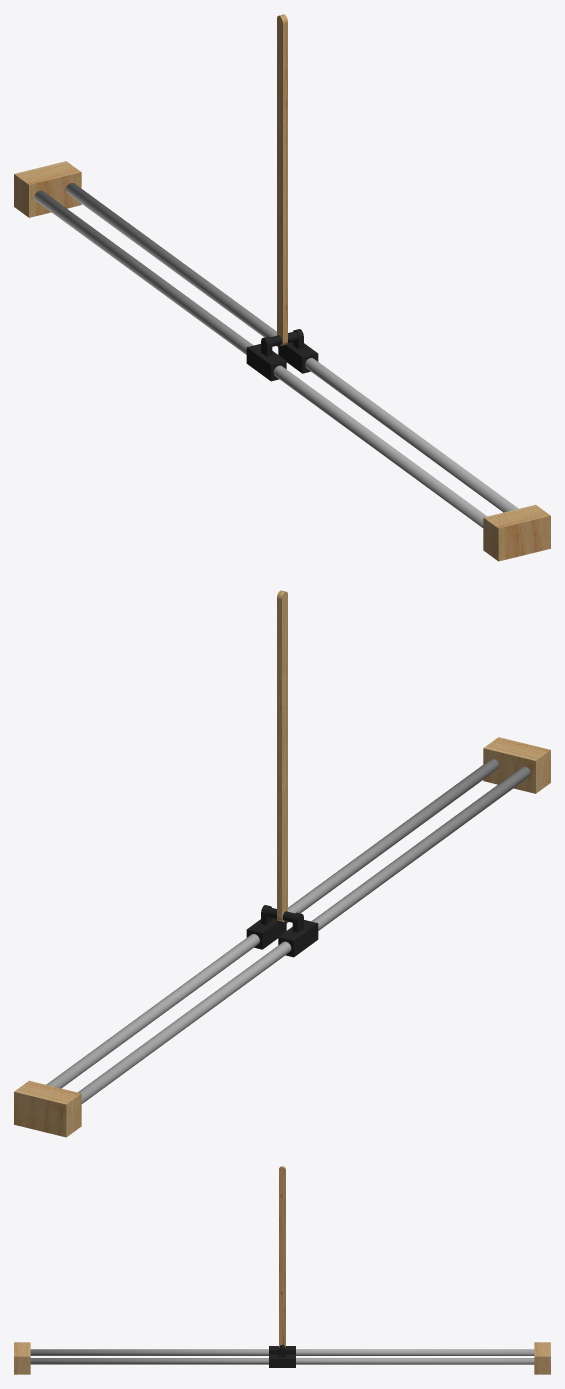
The model's file is pendulum_v5.glb.
3 renders of one model, top to bottom at view 1: azimuth 30°, elevation 25°; view 2: azimuth 150°, elevation 25°; view 3: azimuth 270°, elevation 25°, orthographic. The views are drawn at different scales.
Parts seen in each view (by area): view 1: track, rod, tracksup1, tracksup2, cart; view 2: track, rod, tracksup2, tracksup1, cart; view 3: track, rod, cart, tracksup1, tracksup2.
Boxes of the visible parts, x1,y1,x2,y2 form: track: [34, 183, 518, 527]; rod: [277, 14, 287, 345]; tracksup1: [483, 504, 550, 561]; tracksup2: [14, 161, 81, 217]; cart: [246, 329, 318, 381]; track: [46, 759, 530, 1103]; rod: [277, 590, 287, 921]; tracksup2: [14, 1080, 81, 1137]; tracksup1: [483, 737, 550, 793]; cart: [246, 905, 318, 957]; track: [30, 1349, 534, 1364]; rod: [279, 1166, 285, 1347]; cart: [269, 1344, 295, 1367]; tracksup1: [14, 1342, 30, 1374]; tracksup2: [534, 1342, 550, 1374].
Bounding box in the file's own units: 0.05 × 0.33 × 0.8.
5 materials, 3 textured.
